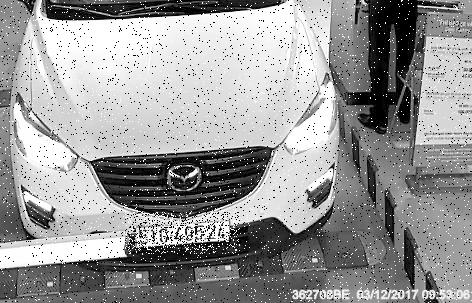License-plate: (127, 213, 242, 255)
